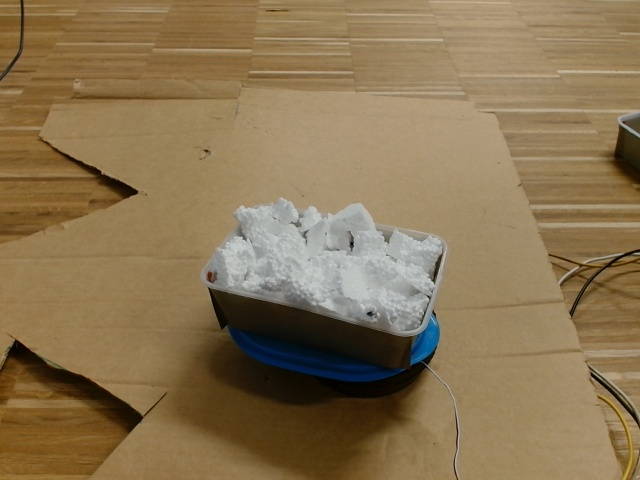Small_full: (201, 194, 450, 344)
